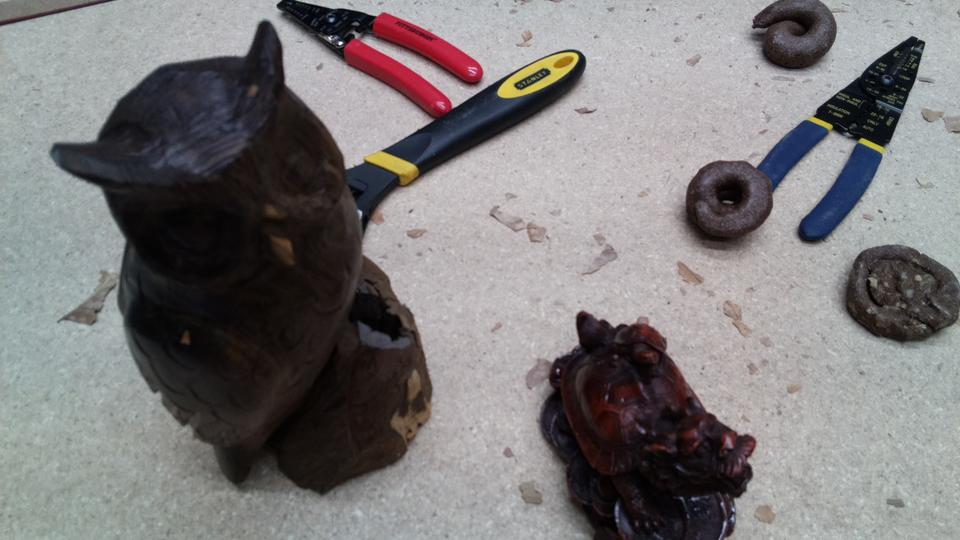poop: (841, 240, 960, 347), (682, 157, 773, 243), (748, 1, 840, 68)
